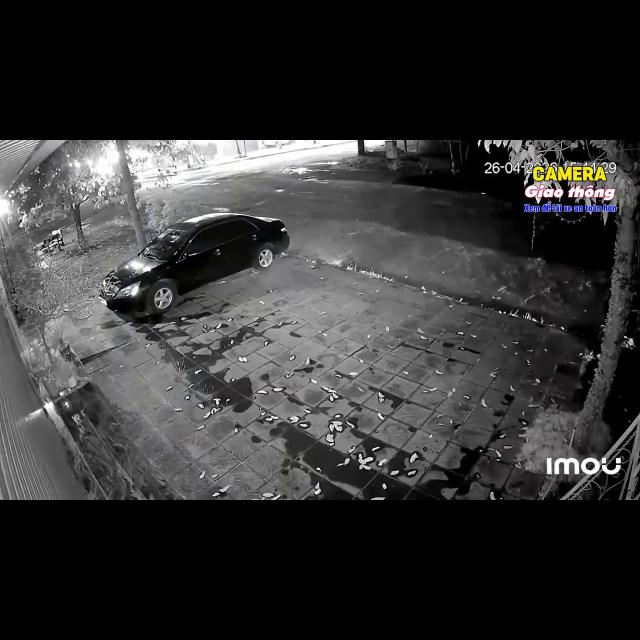car: (99, 213, 289, 314), (263, 140, 277, 147)
